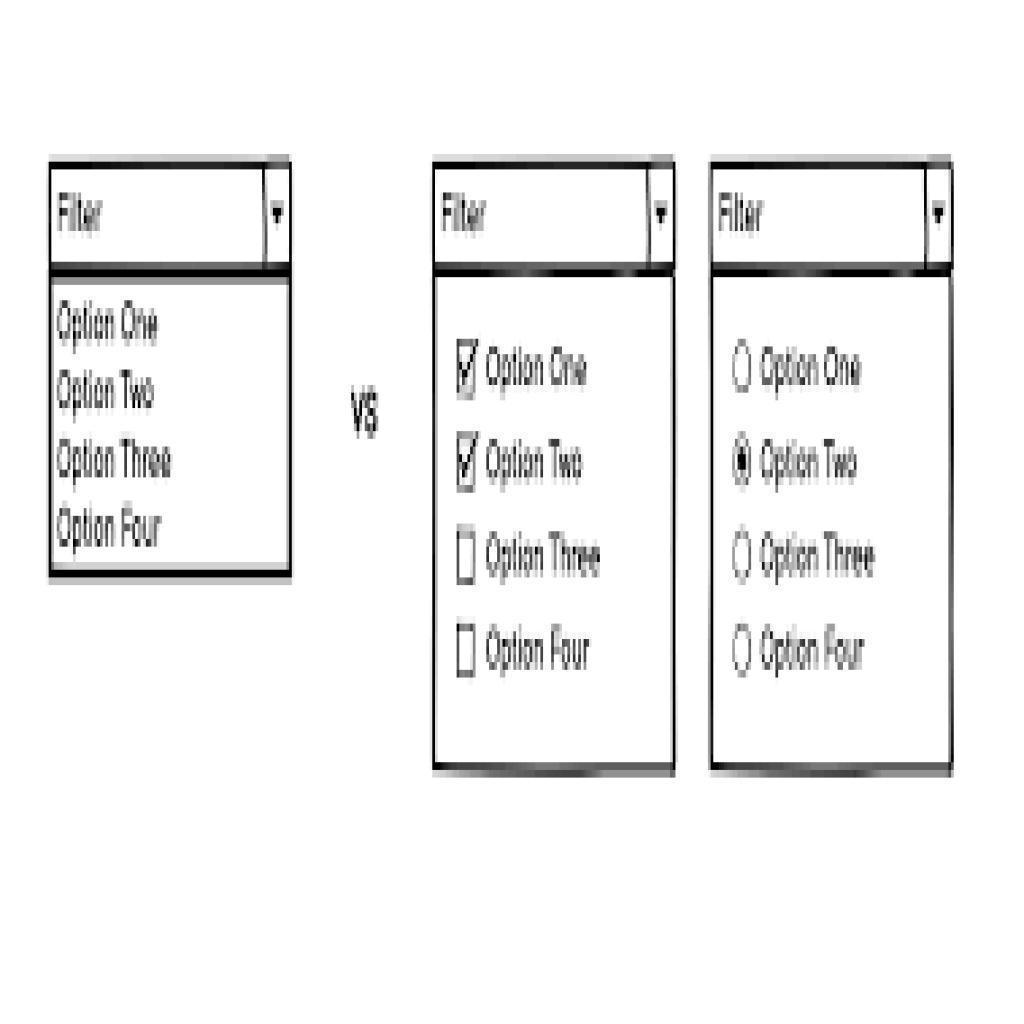checkbox: (455, 431, 478, 489), (457, 339, 478, 398), (458, 530, 477, 580), (458, 626, 475, 670)
dropdown: (49, 161, 292, 271), (432, 162, 675, 271), (709, 160, 954, 264)
label: (486, 526, 604, 581), (758, 531, 883, 581), (480, 622, 593, 674), (761, 623, 867, 674), (756, 439, 862, 488), (756, 342, 867, 388), (489, 438, 589, 487), (484, 348, 590, 392)
radio: (729, 523, 755, 591), (729, 337, 755, 396), (731, 619, 754, 679), (733, 431, 753, 489)
